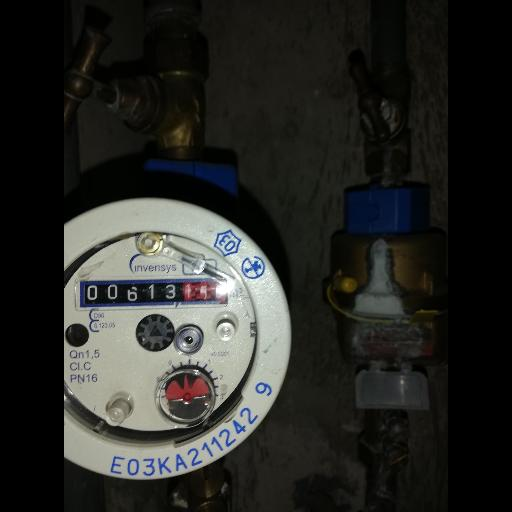0: (85, 283, 102, 304), (104, 283, 121, 304)
1: (143, 282, 161, 302), (182, 283, 196, 302)
3: (162, 282, 181, 302)
5: (197, 281, 213, 301)
6: (121, 283, 141, 303), (211, 281, 227, 301)
border_water_meter_number: (76, 275, 230, 312)
